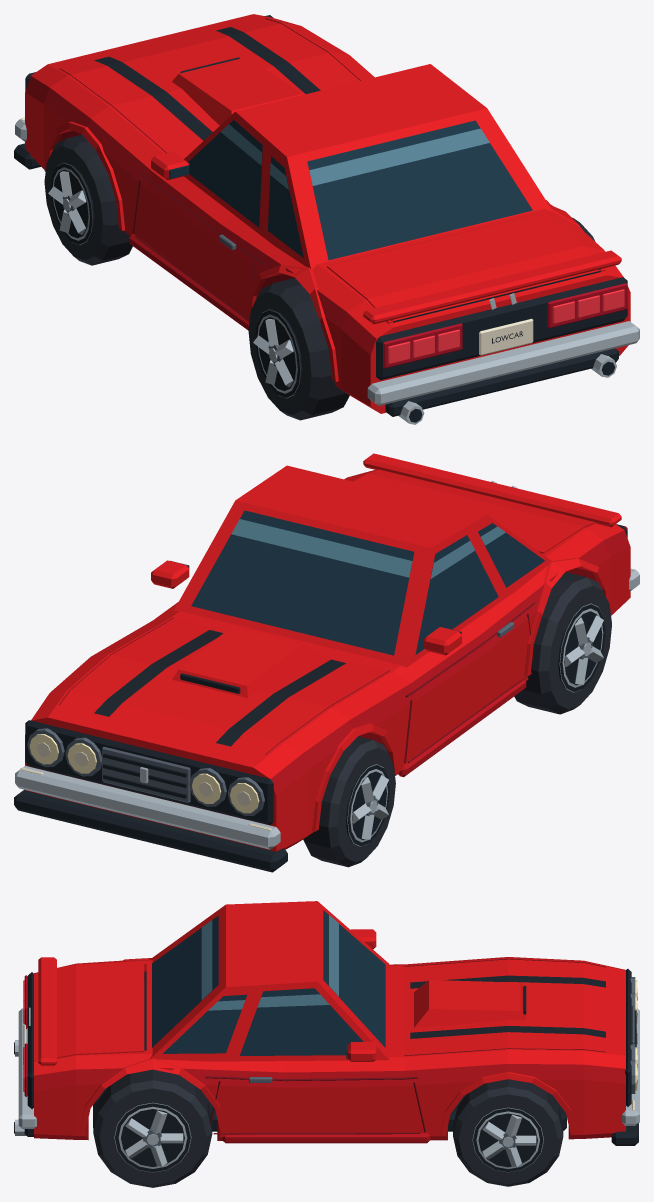
File: red_muscle_car.glb
The picture shows the model from 3 angles, top to bottom: view 1: azimuth 30°, elevation 25°; view 2: azimuth 150°, elevation 25°; view 3: azimuth 270°, elevation 25°; orthographic projection. The views are drawn at different scales.
Visible parts, largest first — view 1: BodyMesh, TrunkLidMesh, RearLeftMesh, FrontLeftMesh; view 2: BodyMesh, TrunkLidMesh, RearLeftMesh, FrontLeftMesh; view 3: BodyMesh, RearRightMesh, TrunkLidMesh, FrontRightMesh.
Boxes of the visible parts, x1,y1,x2,y2 form: BodyMesh: (14, 14, 639, 424); TrunkLidMesh: (327, 213, 621, 324); RearLeftMesh: (248, 278, 349, 420); FrontLeftMesh: (44, 134, 132, 265); BodyMesh: (14, 465, 639, 872); TrunkLidMesh: (355, 453, 621, 553); RearLeftMesh: (514, 572, 611, 714); FrontLeftMesh: (303, 736, 395, 867); BodyMesh: (14, 901, 639, 1145); RearRightMesh: (93, 1069, 212, 1187); TrunkLidMesh: (38, 957, 144, 1065); FrontRightMesh: (453, 1079, 563, 1186).
Bounding box in the file's own units: 2.51 × 1.67 × 5.06.
